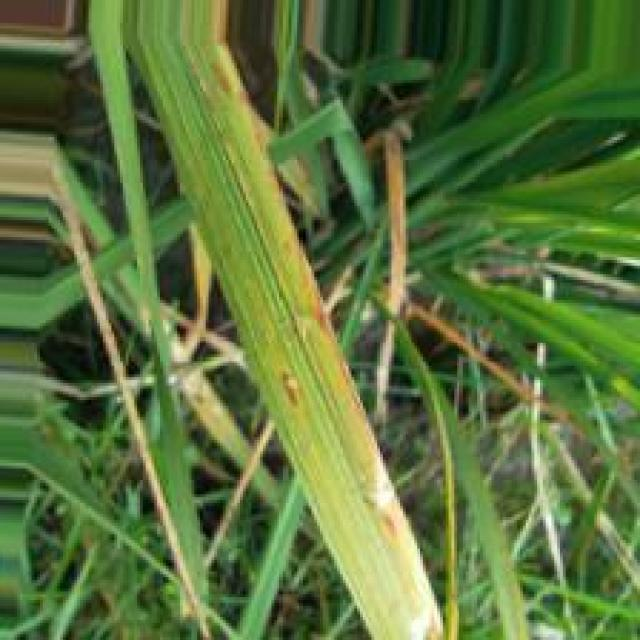Narrow_Brown_Leaf_Spot: (204, 0, 422, 560), (277, 371, 310, 410)
